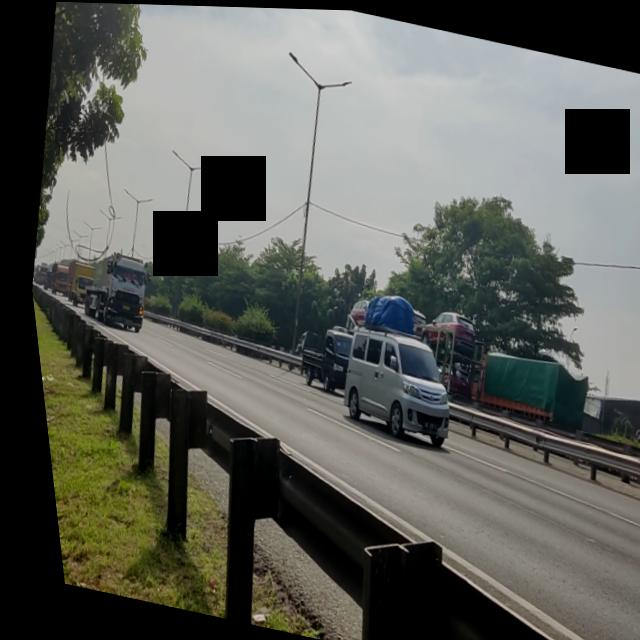Golongan I: (320, 311, 460, 450)
